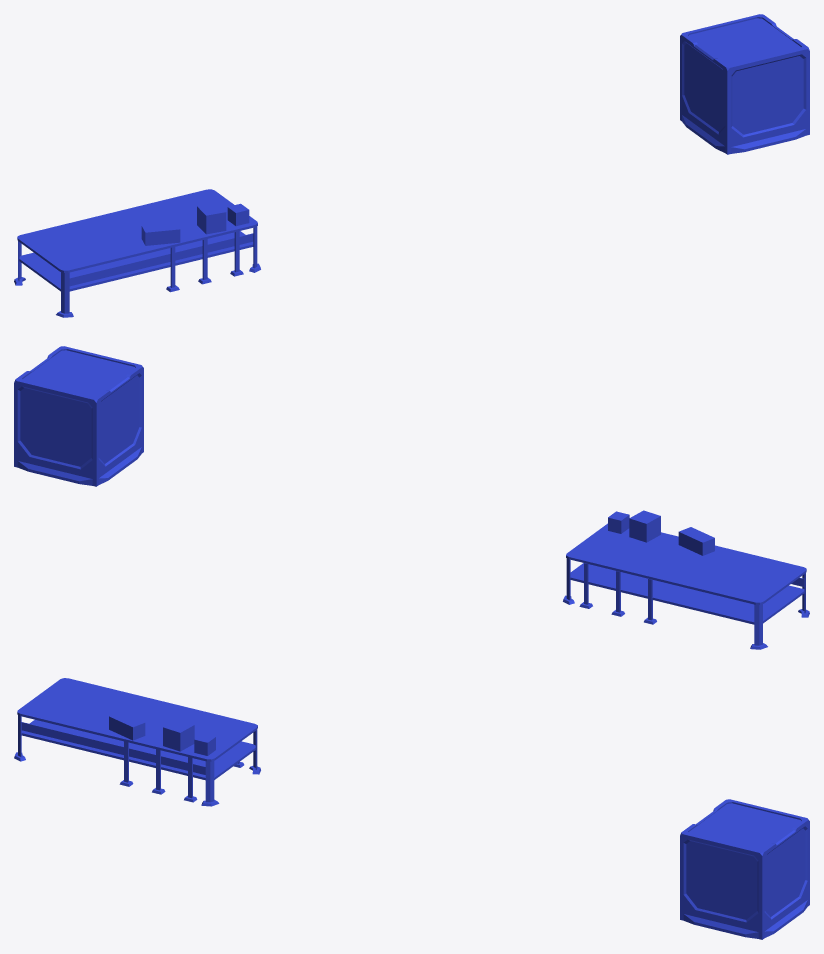
File: WorkshopScene_RoomObjects.fbx
The picture shows the model from 3 angles, top to bottom: view 1: azimuth 30°, elevation 25°; view 2: azimuth 150°, elevation 25°; view 3: azimuth 330°, elevation 25°; orthographic projection.
Visible parts, largest first — view 1: Workbench.001, StorageBox.001; view 2: Workbench.001, StorageBox.001; view 3: Workbench.001, StorageBox.001.
Part boxes in pixels (bbox=[...]): Workbench.001: bbox=[14, 189, 260, 317]; StorageBox.001: bbox=[680, 14, 809, 154]; Workbench.001: bbox=[563, 510, 809, 649]; StorageBox.001: bbox=[14, 346, 143, 486]; Workbench.001: bbox=[14, 678, 260, 806]; StorageBox.001: bbox=[680, 799, 809, 939].
Bounding box in the file's own units: 1825 × 200 × 223.
